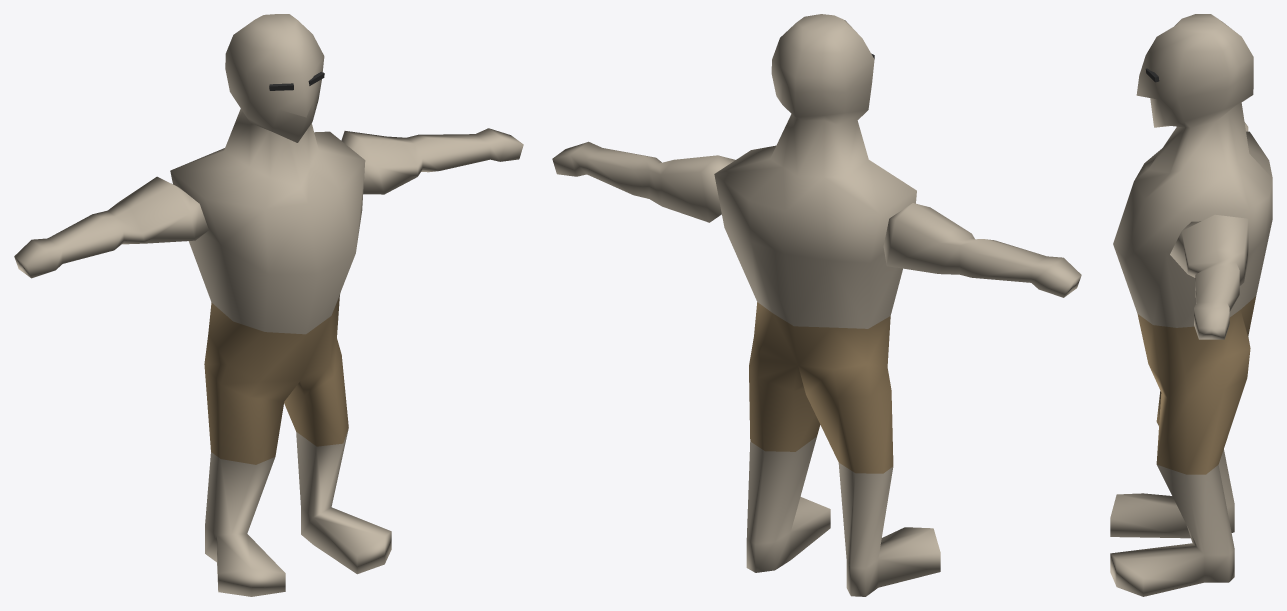
Rendered from Gladiator.fbx.
The picture shows the model from 3 angles, left to right: view 1: azimuth 30°, elevation 25°; view 2: azimuth 150°, elevation 25°; view 3: azimuth 270°, elevation 25°; orthographic projection. The views are drawn at different scales.
Parts seen in each view (by area): view 1: body, rightArm, leftArm; view 2: body, rightArm, leftArm; view 3: body, leftArm.
Boxes of the visible parts, x1,y1,x2,y2 form: body: (170, 14, 391, 596); rightArm: (14, 176, 208, 278); leftArm: (341, 128, 523, 194); body: (714, 14, 940, 596); rightArm: (883, 203, 1081, 297); leftArm: (552, 141, 735, 222); body: (1110, 14, 1272, 596); leftArm: (1170, 214, 1248, 339).
Size of the model in its own units: 1.8 by 1.83 by 0.5093.
